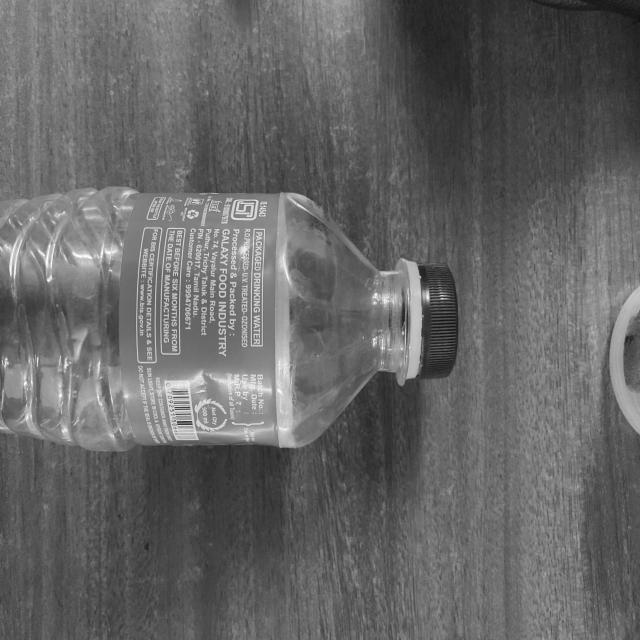Good-cap-Df0S: (403, 254, 460, 389)
